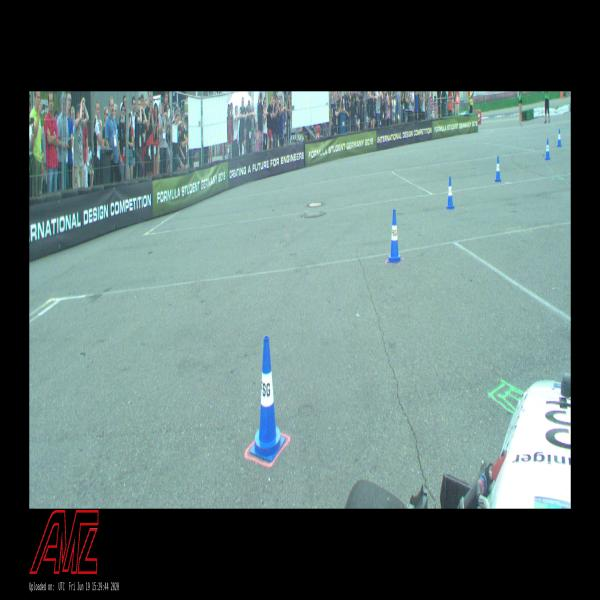blue_cone: (251, 337, 284, 461), (387, 210, 402, 263), (446, 176, 455, 210), (494, 155, 502, 182), (544, 138, 550, 160), (557, 128, 562, 147)
